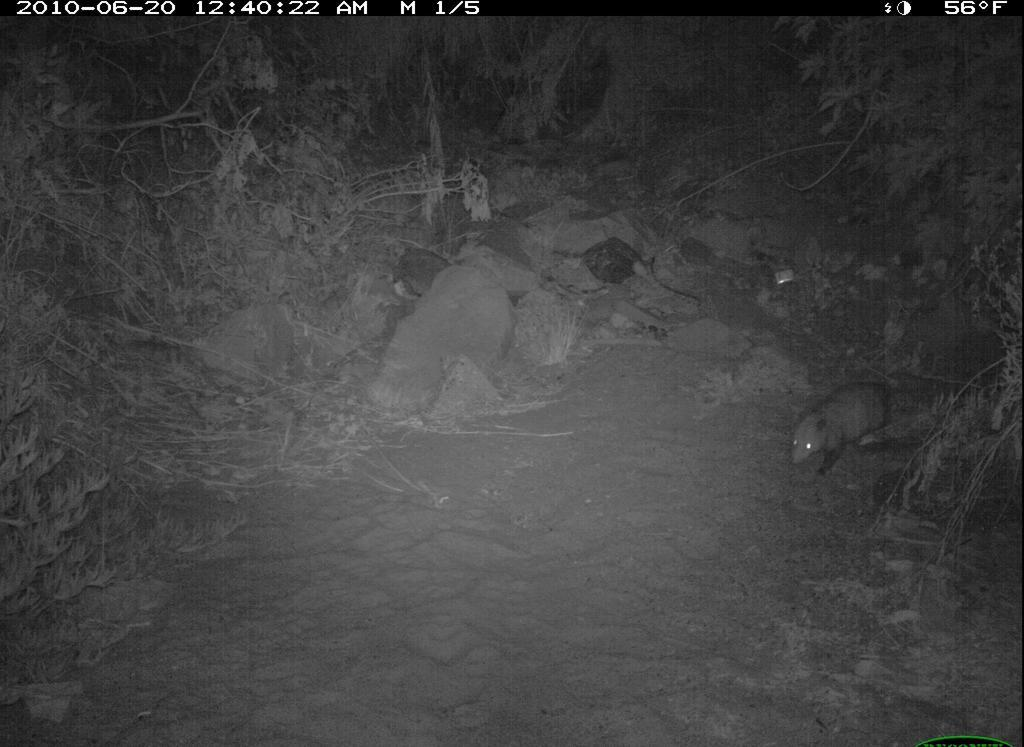opossum: (780, 369, 920, 481)
